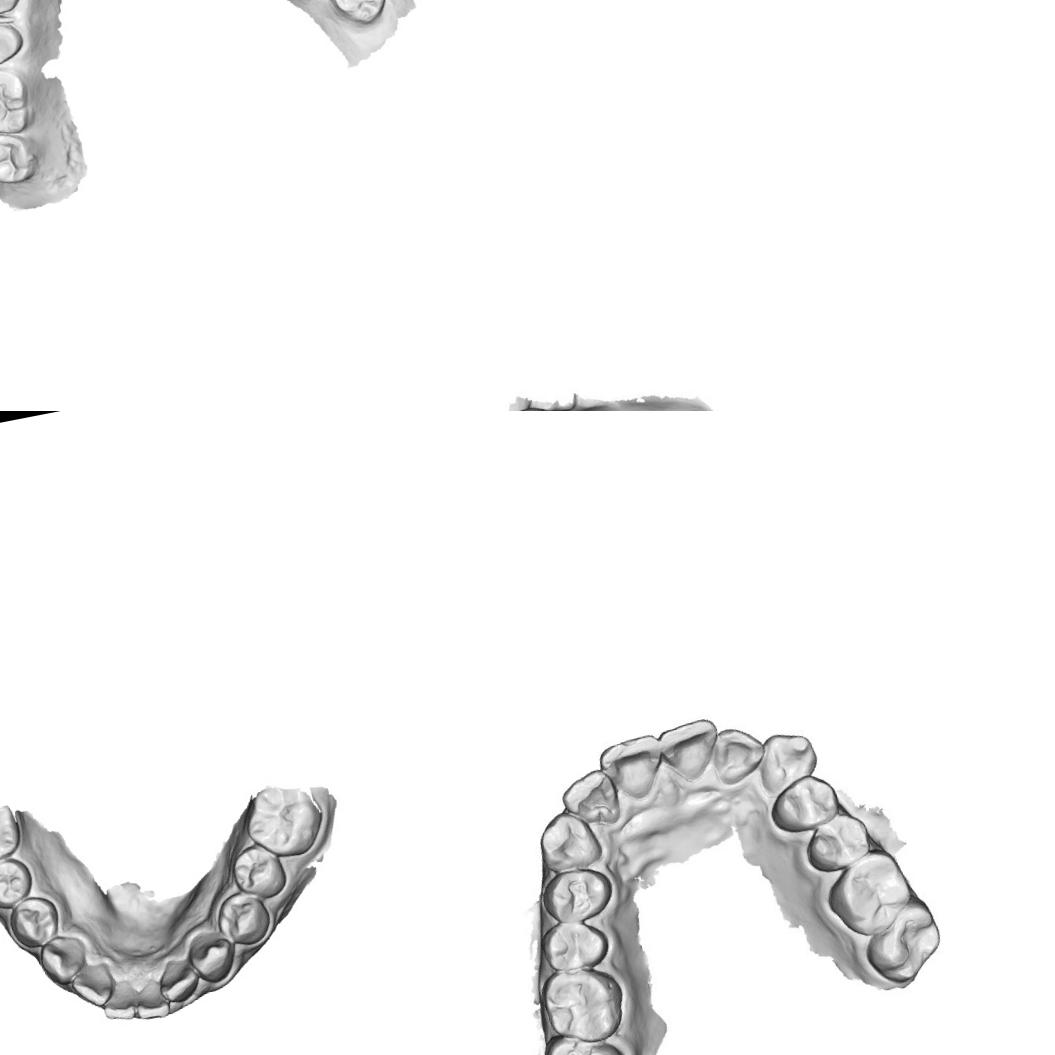canine: (535, 807, 603, 870), (754, 729, 821, 787), (183, 925, 240, 987), (36, 930, 92, 990)
incisor: (598, 732, 666, 800), (658, 716, 722, 782), (710, 723, 768, 791), (559, 771, 621, 831), (66, 960, 116, 1012), (154, 955, 202, 1005), (131, 974, 172, 1022), (97, 978, 139, 1024)
molar: (822, 846, 915, 934), (238, 776, 329, 864), (538, 962, 627, 1046), (864, 904, 941, 986), (0, 122, 52, 195), (0, 57, 40, 142), (541, 1027, 632, 1055), (320, 0, 394, 33), (0, 796, 24, 873)
premolar: (538, 861, 619, 926), (767, 772, 844, 833), (538, 913, 616, 971), (226, 838, 290, 904), (212, 886, 274, 950), (805, 813, 870, 872), (4, 890, 64, 952), (0, 853, 37, 913), (0, 7, 31, 75)
